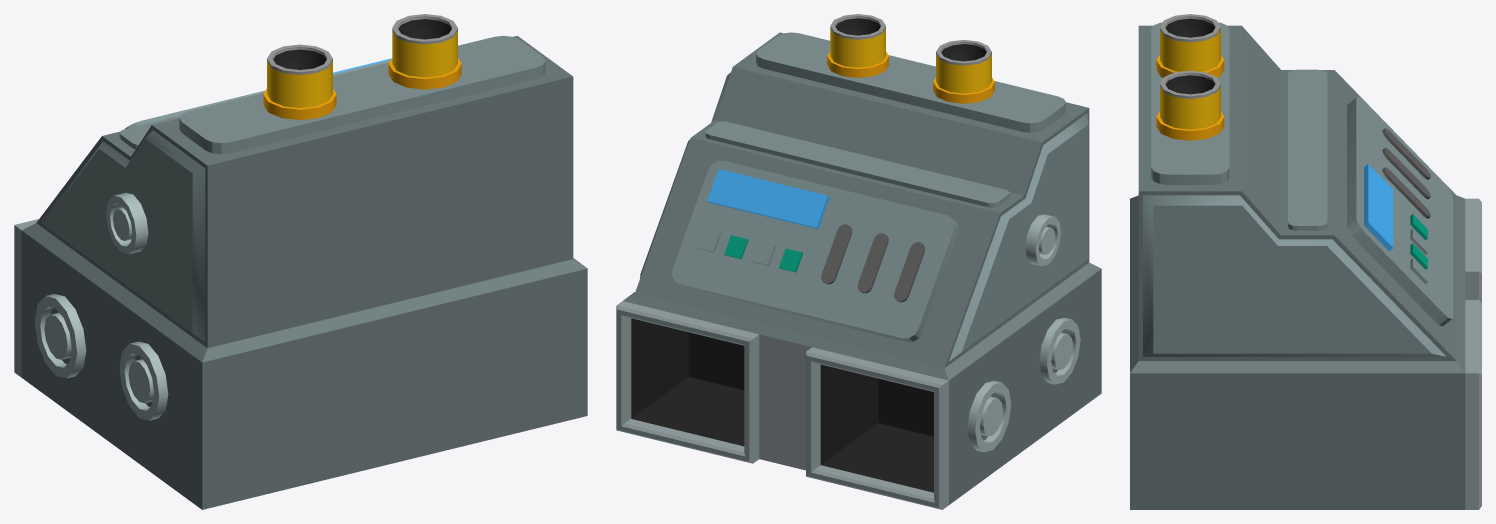
File: mech_corner.fbx
3 renders of one model, left to right at view 1: azimuth 30°, elevation 25°; view 2: azimuth 150°, elevation 25°; view 3: azimuth 270°, elevation 25°, orthographic. The views are drawn at different scales.
Visible parts, largest first — view 1: mech_corner_lv1; view 2: mech_corner_lv1; view 3: mech_corner_lv1.
Boxes of the visible parts, x1,y1,x2,y2 form: mech_corner_lv1: (14,14,587,509); mech_corner_lv1: (616,14,1101,509); mech_corner_lv1: (1130,14,1481,509).
Bounding box in the file's own units: 189 × 182 × 157.
